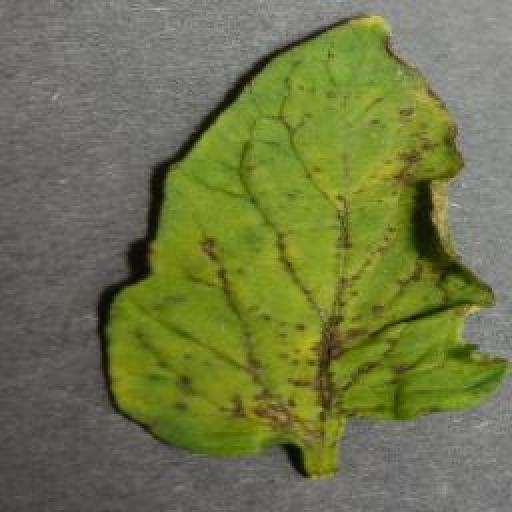Bacterial Spot: (91, 5, 512, 489)
